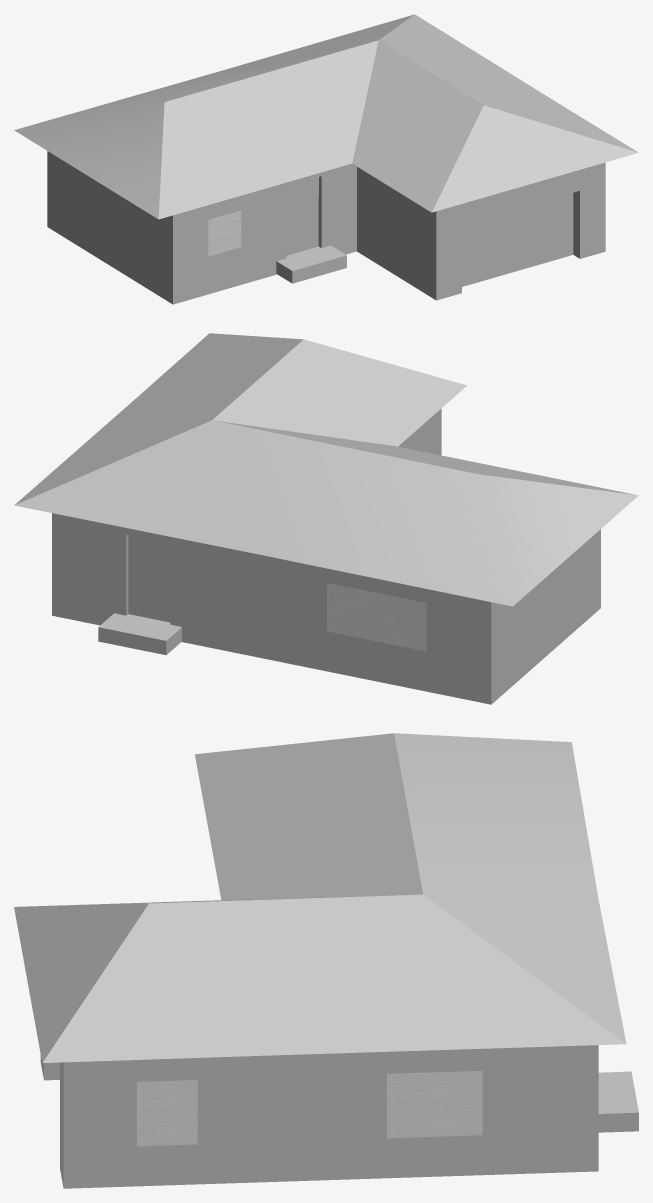
Rendered from house_A.fbx.
3 views of the same model, one above another, from view 1: azimuth 30°, elevation 25°; view 2: azimuth 150°, elevation 25°; view 3: azimuth 270°, elevation 25° (orthographic). The views are drawn at different scales.
Parts seen in each view (by area): view 1: house_A_roof, house_A_base, house_A_doors, house_A_windows; view 2: house_A_roof, house_A_base, house_A_windows, house_A_doors; view 3: house_A_roof, house_A_base, house_A_windows.
Part boxes in pixels (x1,y1,x2,y2): house_A_roof: [14, 14, 638, 219]; house_A_base: [47, 151, 605, 304]; house_A_doors: [286, 177, 573, 286]; house_A_windows: [208, 210, 241, 256]; house_A_roof: [14, 333, 638, 606]; house_A_base: [52, 408, 600, 704]; house_A_windows: [327, 583, 426, 651]; house_A_doors: [128, 535, 170, 622]; house_A_roof: [14, 733, 626, 1062]; house_A_base: [40, 1045, 638, 1188]; house_A_windows: [137, 1070, 482, 1146].
Bounding box in the file's own units: 18.42 × 5.84 × 15.15.
